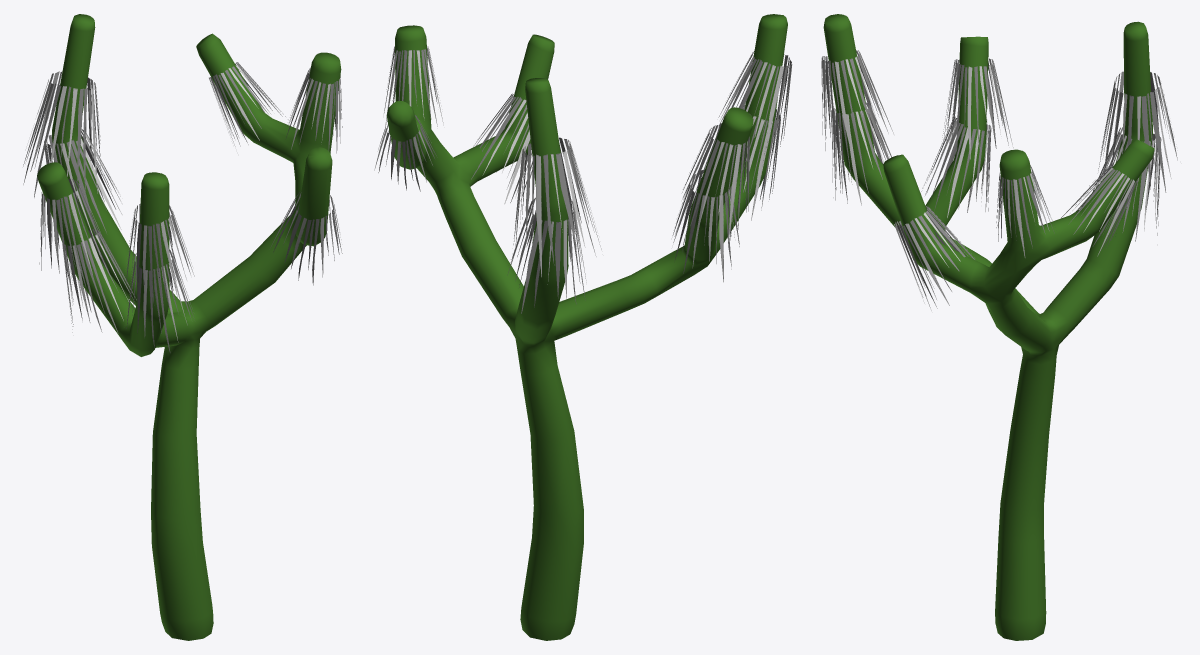
The model's file is tree1.fbx.
3 renders of one model, left to right at view 1: azimuth 30°, elevation 25°; view 2: azimuth 150°, elevation 25°; view 3: azimuth 270°, elevation 25°, orthographic. The views are drawn at different scales.
Visible parts, largest first — view 1: tree1, Cylinder007, Cylinder001; view 2: tree1, Cylinder001, Cylinder007; view 3: tree1, Cylinder007, Cylinder001.
Boxes of the visible parts, bbox=[...] form: tree1: bbox=[37, 14, 341, 640]; Cylinder007: bbox=[39, 62, 342, 352]; Cylinder001: bbox=[23, 71, 342, 333]; tree1: bbox=[386, 14, 787, 640]; Cylinder001: bbox=[471, 93, 739, 313]; Cylinder007: bbox=[374, 46, 792, 241]; tree1: bbox=[823, 14, 1154, 640]; Cylinder007: bbox=[821, 50, 1137, 257]; Cylinder001: bbox=[894, 71, 1177, 310].
Size of the model in its own units: 7.3 by 7.06 by 12.46.
